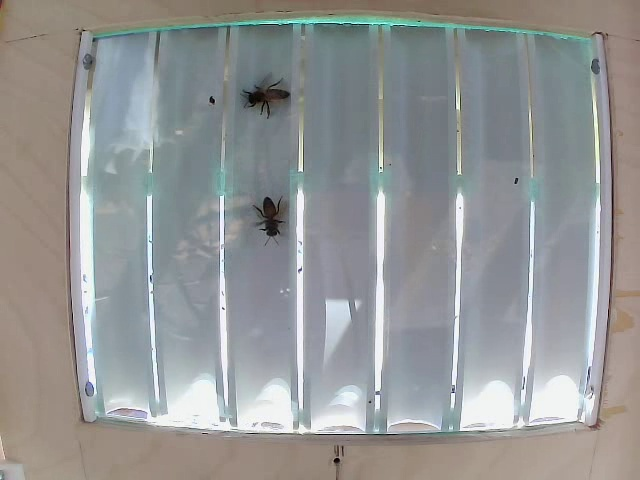bee: (247, 181, 295, 243), (253, 77, 291, 122)
